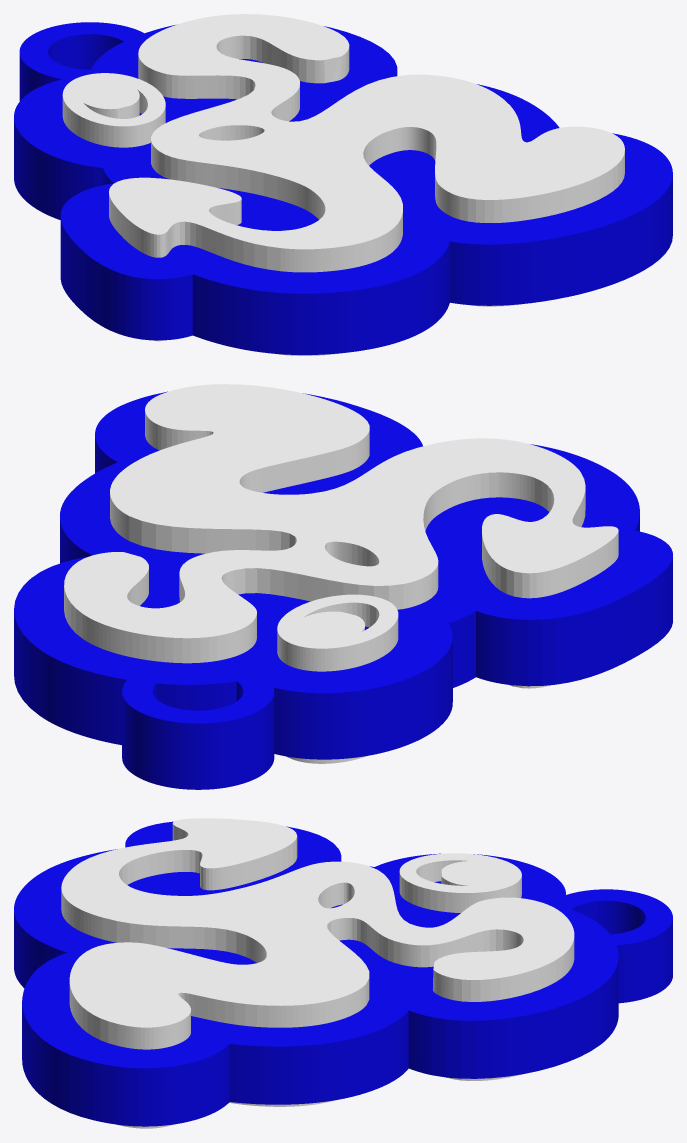
Rendered from keychain.glb.
3 renders of one model, top to bottom at view 1: azimuth 30°, elevation 25°; view 2: azimuth 150°, elevation 25°; view 3: azimuth 270°, elevation 25°, orthographic. The views are drawn at different scales.
Visible parts, largest first — view 1: Curve.113, Curve.167, Curve.114; view 2: Curve.113, Curve.167, Curve.114; view 3: Curve.113, Curve.167, Curve.114.
Part boxes in pixels (left/top/right/bottom): Curve.113: left=14, top=22, right=672, bottom=354; Curve.167: left=109, top=14, right=624, bottom=355; Curve.114: left=62, top=73, right=165, bottom=147; Curve.113: left=14, top=391, right=672, bottom=789; Curve.167: left=64, top=384, right=618, bottom=688; Curve.114: left=277, top=594, right=398, bottom=763; Curve.113: left=14, top=821, right=672, bottom=1126; Curve.167: left=61, top=818, right=574, bottom=1128; Curve.114: left=399, top=853, right=521, bottom=912.
Size of the model in its own units: 0.0383 by 0.00741 by 0.043.
